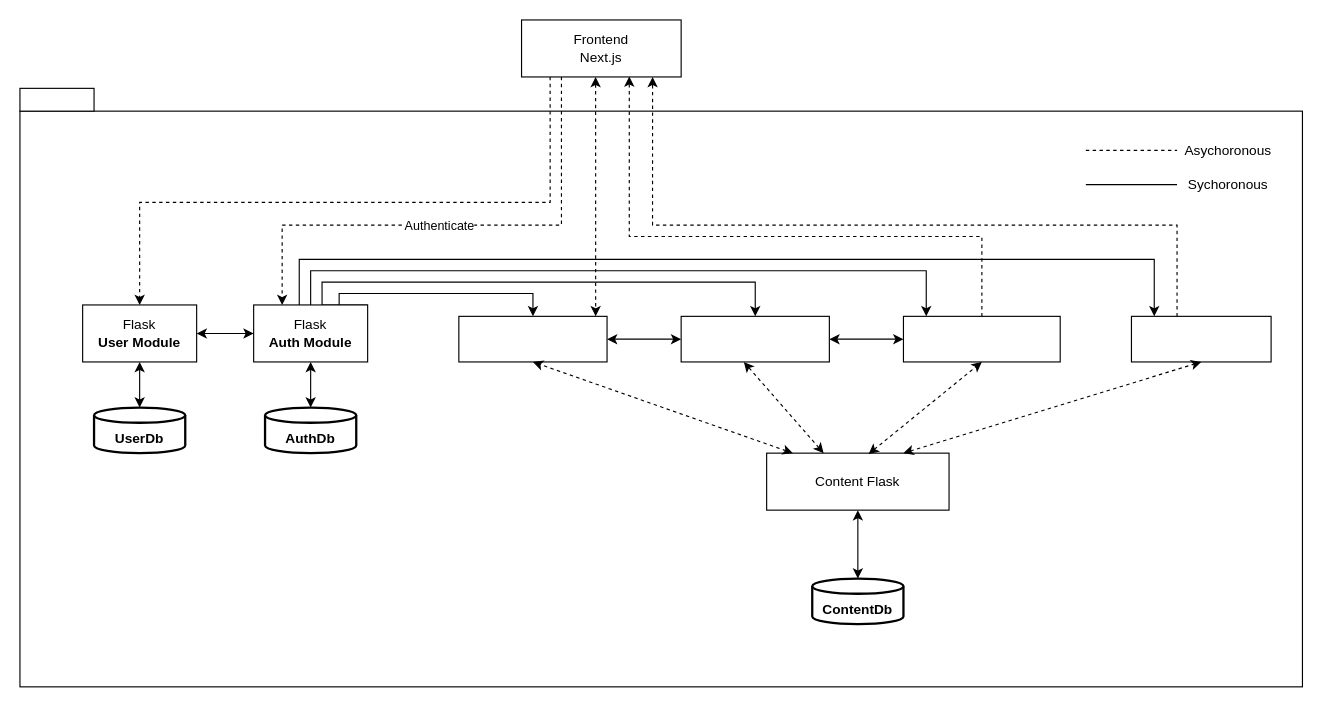
Some shapes in this 1322 by 707 pixel diagram are drawn without their labels. The shapes that lost their labels are listed below. From the top down, each one's box as (x1, y1, x2, y2) in pixels, then its label:
(458, 315, 607, 362): Flask Loan Module
(680, 315, 829, 362): Flask Admin Module
(902, 315, 1060, 362): Flask Notification Module
(1130, 315, 1271, 362): Flask Activity Module
